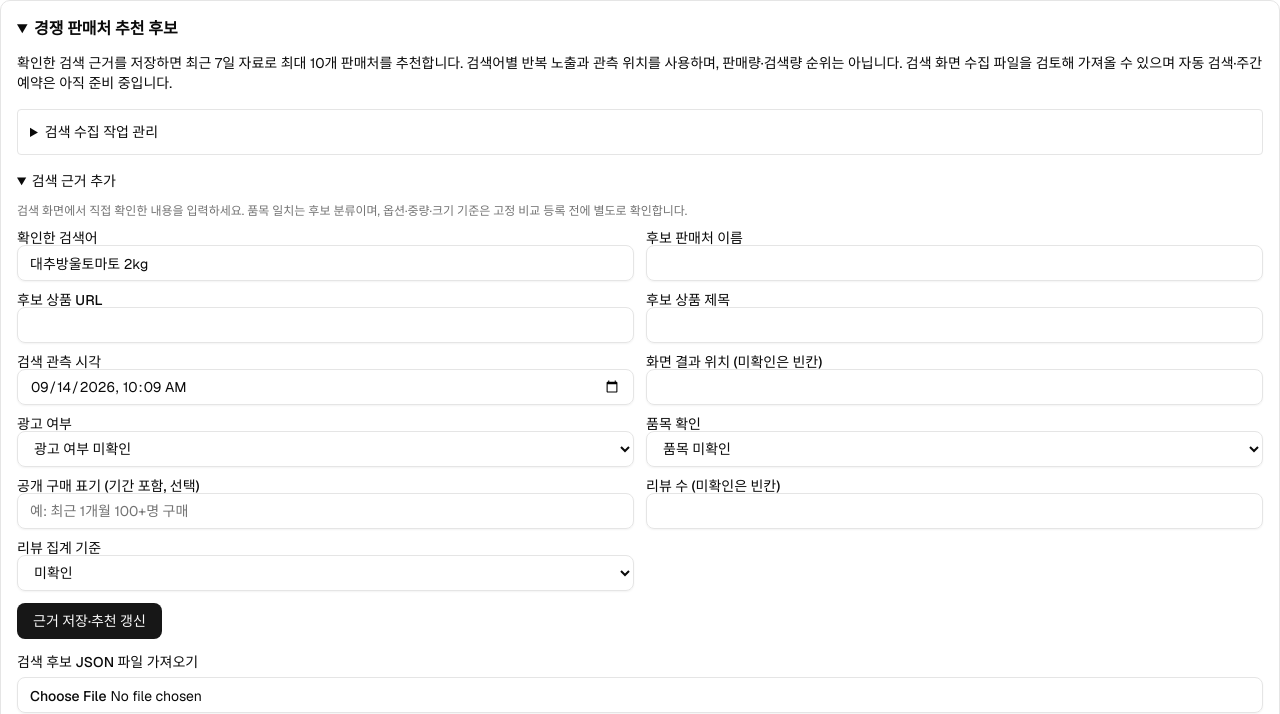
Test: retains unknown metrics when saving evidence and never creates a price observation
Type "새농장" into the field labelled "후보 판매처 이름" at (954, 263), box [646,245,1263,281]
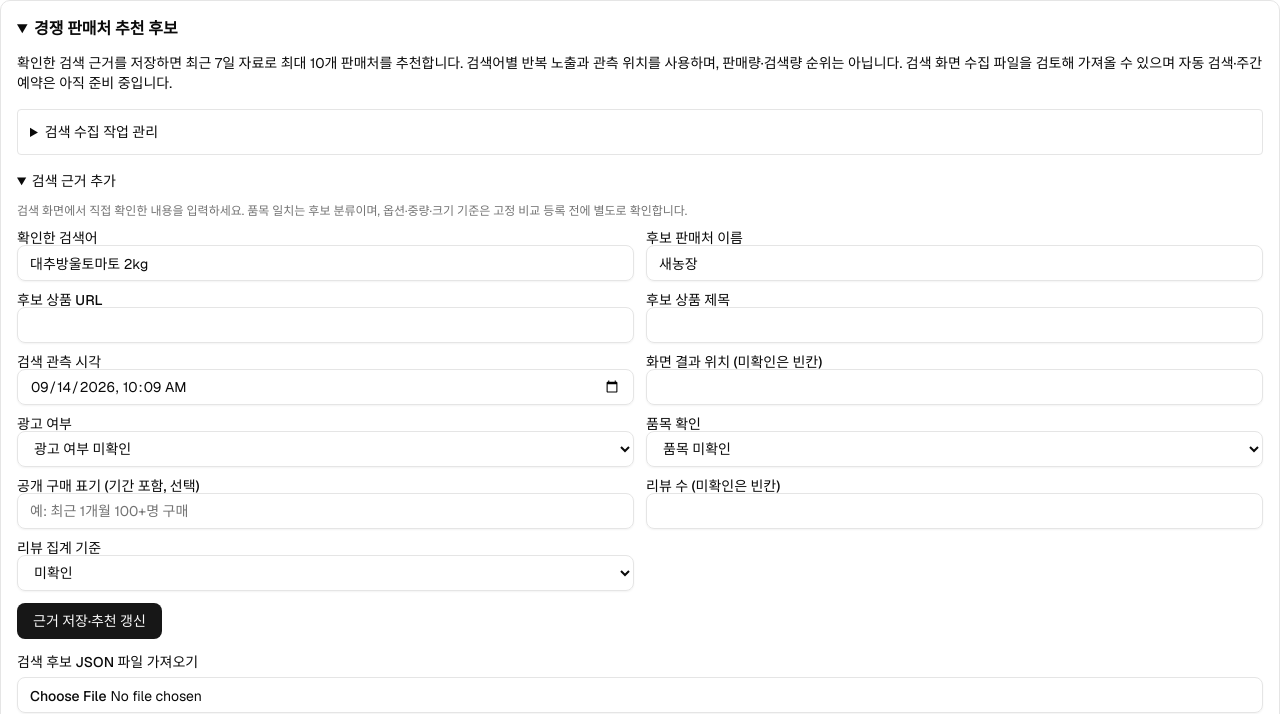
Type "https://smartstore.naver.com/farm-a/products/1" into the field labelled "후보 상품 URL" at (326, 325), box [17,307,634,343]
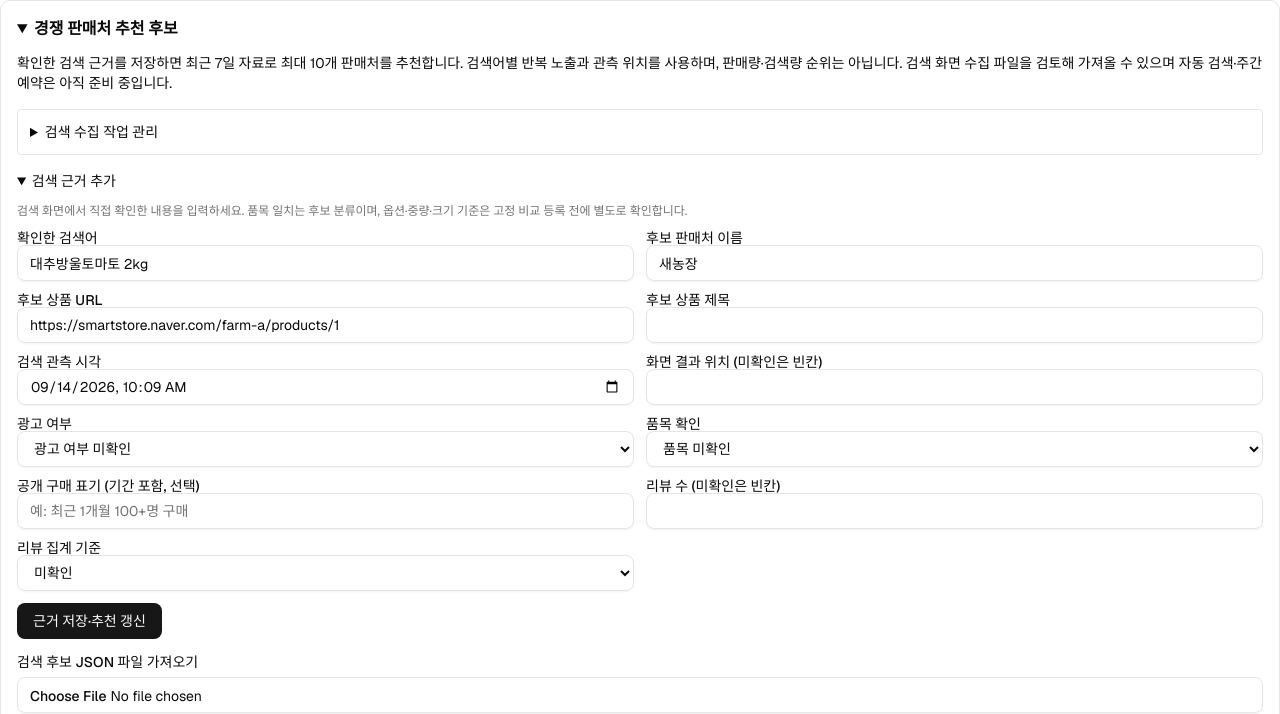
Type "대추방울토마토 2kg" into the field labelled "후보 상품 제목" at (954, 325), box [646,307,1263,343]
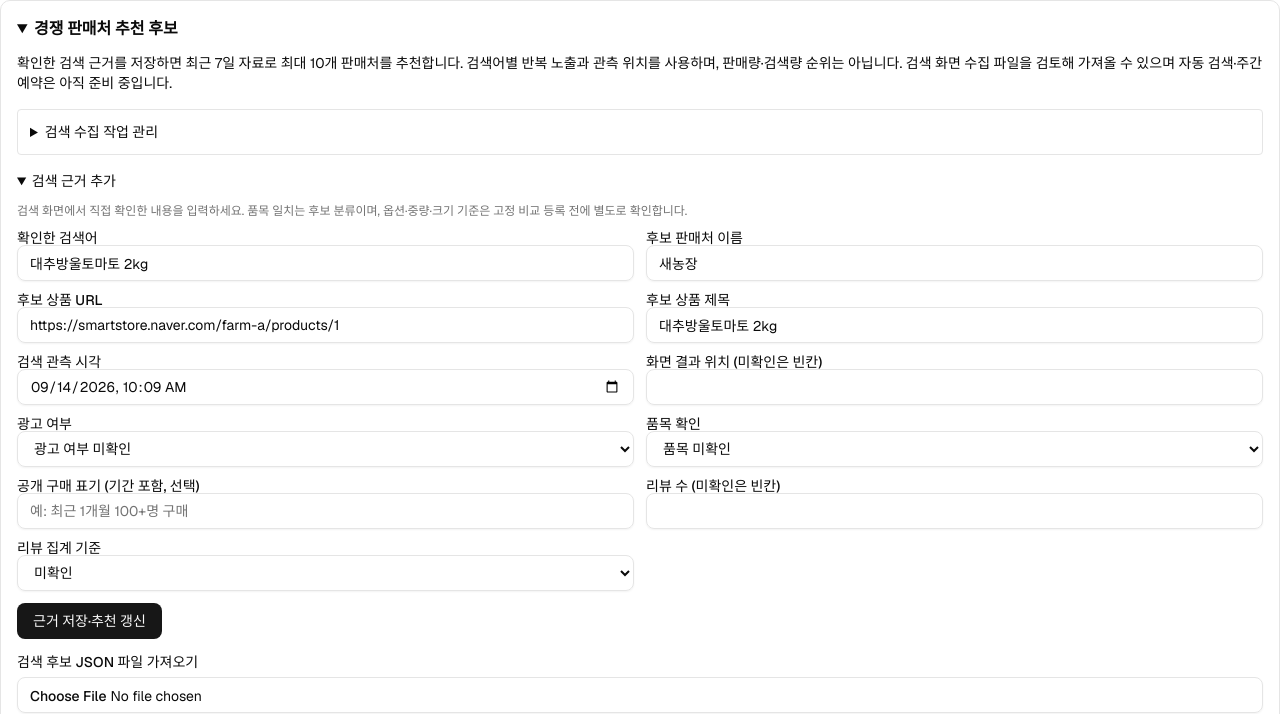
Submit the form named "근거 저장·추천 갱신"
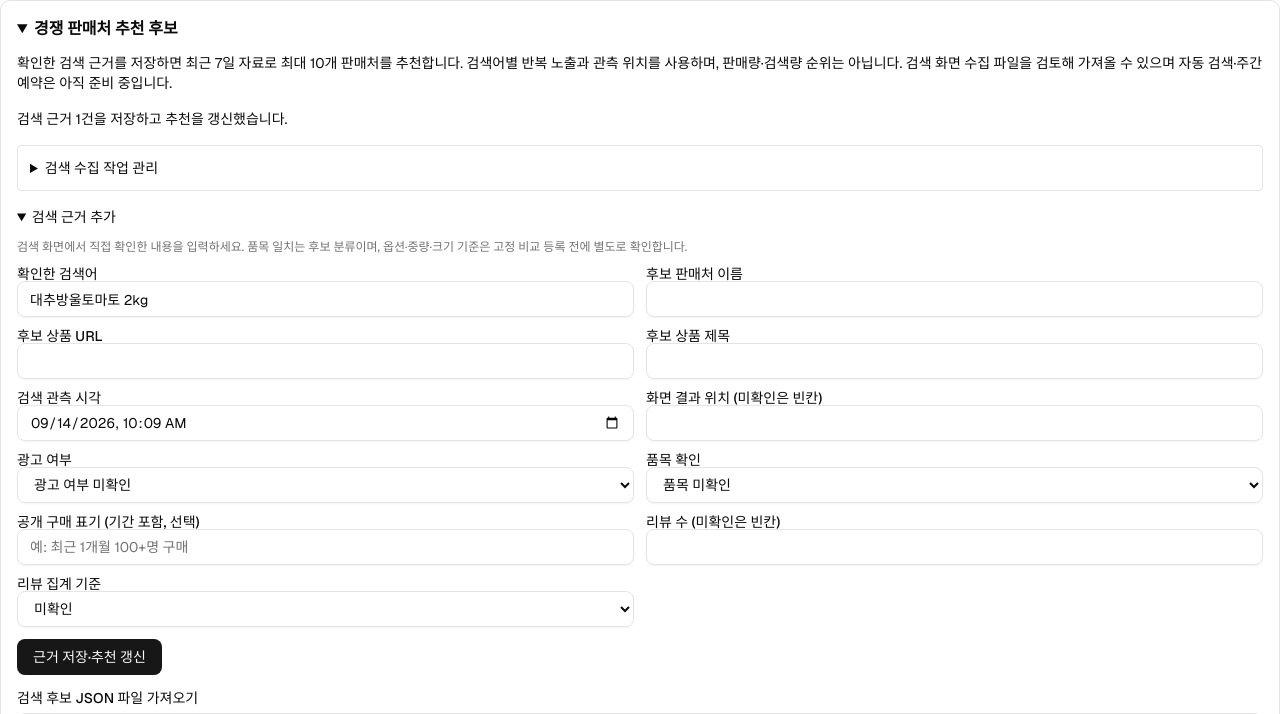
Expected: the text "검색 근거 1건을 저장하고 추천을 갱신했습니다." is shown, [17,110,287,128]
